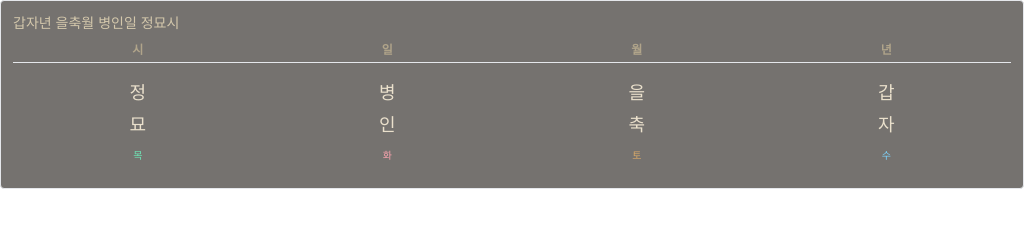
Scenario: <SajuChart /> (ISSUE-042) › AC3: tapping a 명식 cell opens an inline tooltip with 오행 + 십신
The image size is (1024, 232).
Click the button with test id "saju-cell-year": (886,123) [766, 71, 1007, 175]
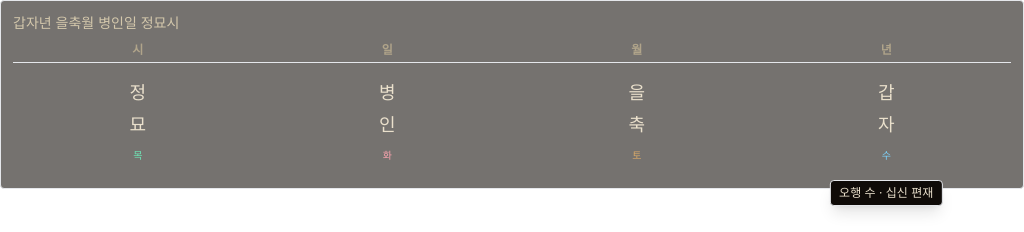
Now the tooltip with test id "saju-tooltip-year" reads "오행 수 · 십신 편재", box [830, 180, 942, 206]
